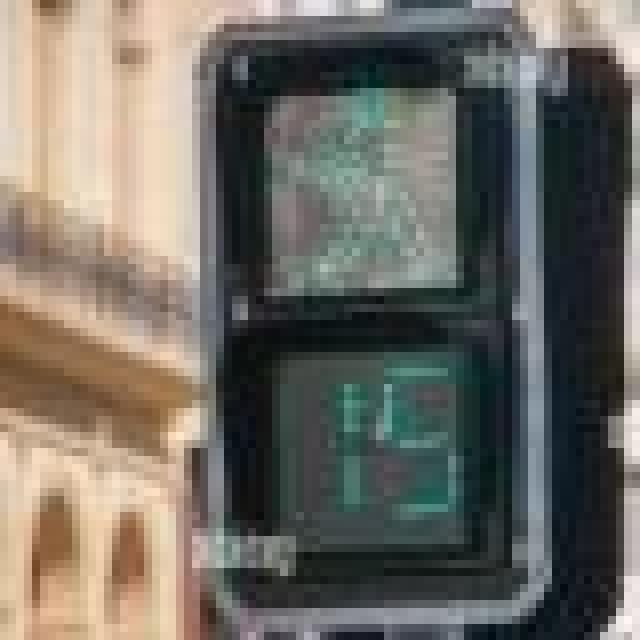greenlight: (202, 51, 548, 640)
